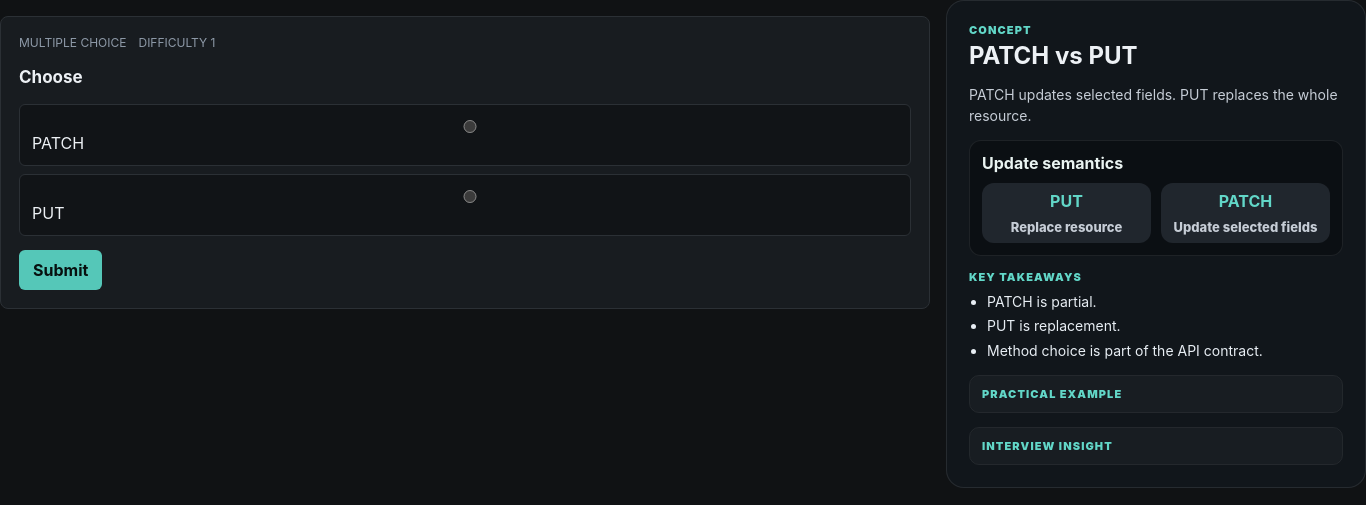
Test: QuestionCard › submits an answer and displays feedback
Expected: the heading "PATCH vs PUT" is shown, [969,41,1138,70]
Expected: the text "Update selected fields" is shown, [1174,219,1317,235]
What coordinates should you click on to do the following:
click the radio button labelled "PATCH"
I would click on:
 (470, 126)
Its box is [37,120,903,133].
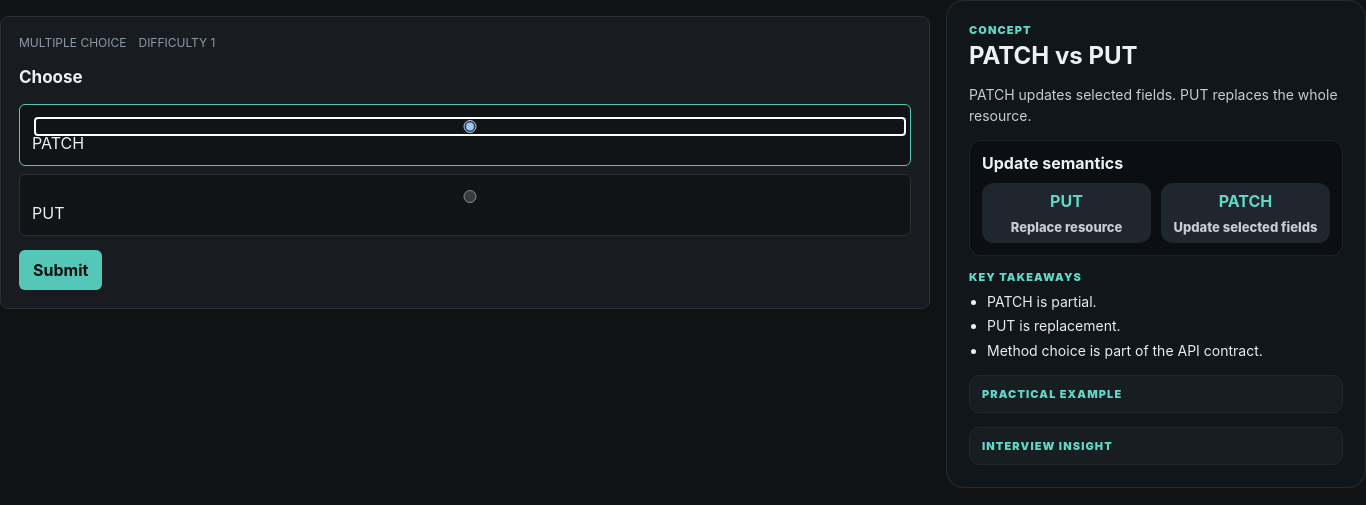
What coordinates should you click on to do the following:
click the button "Submit"
I would click on:
 (61, 270)
Its box is [19,250,102,290].
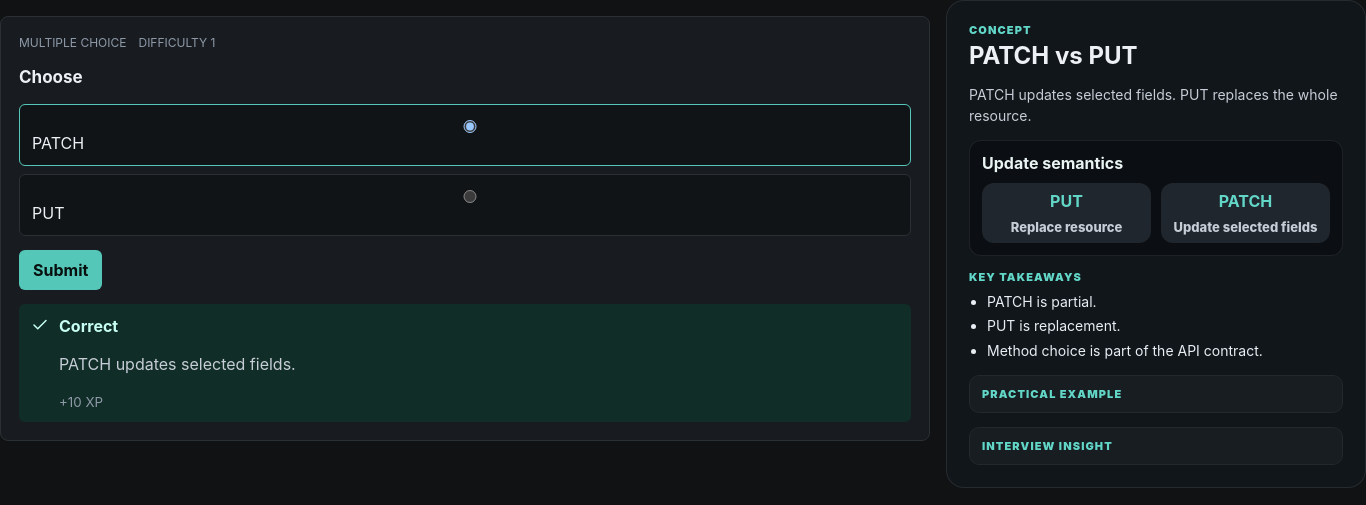
Now the text "Correct" is shown, box [59,316,118,336]
